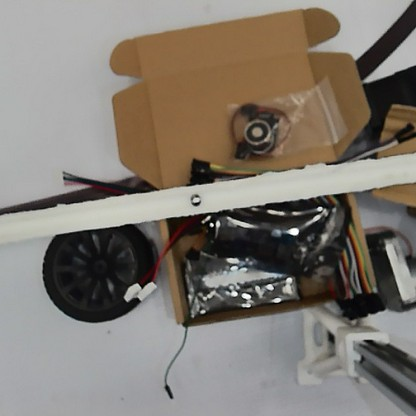ironball: (186, 190, 203, 207)
